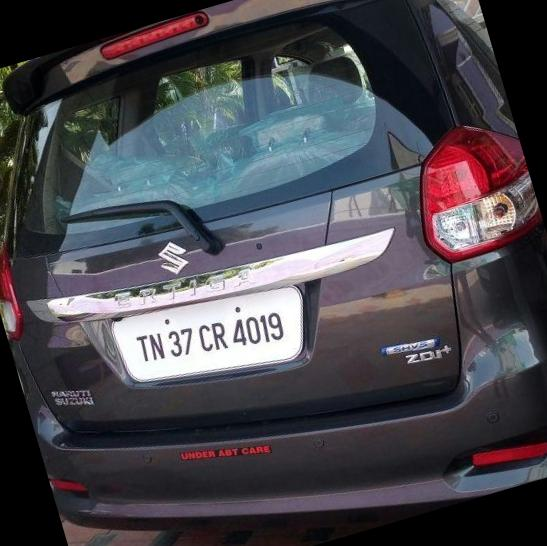plate: (93, 246, 326, 414)
